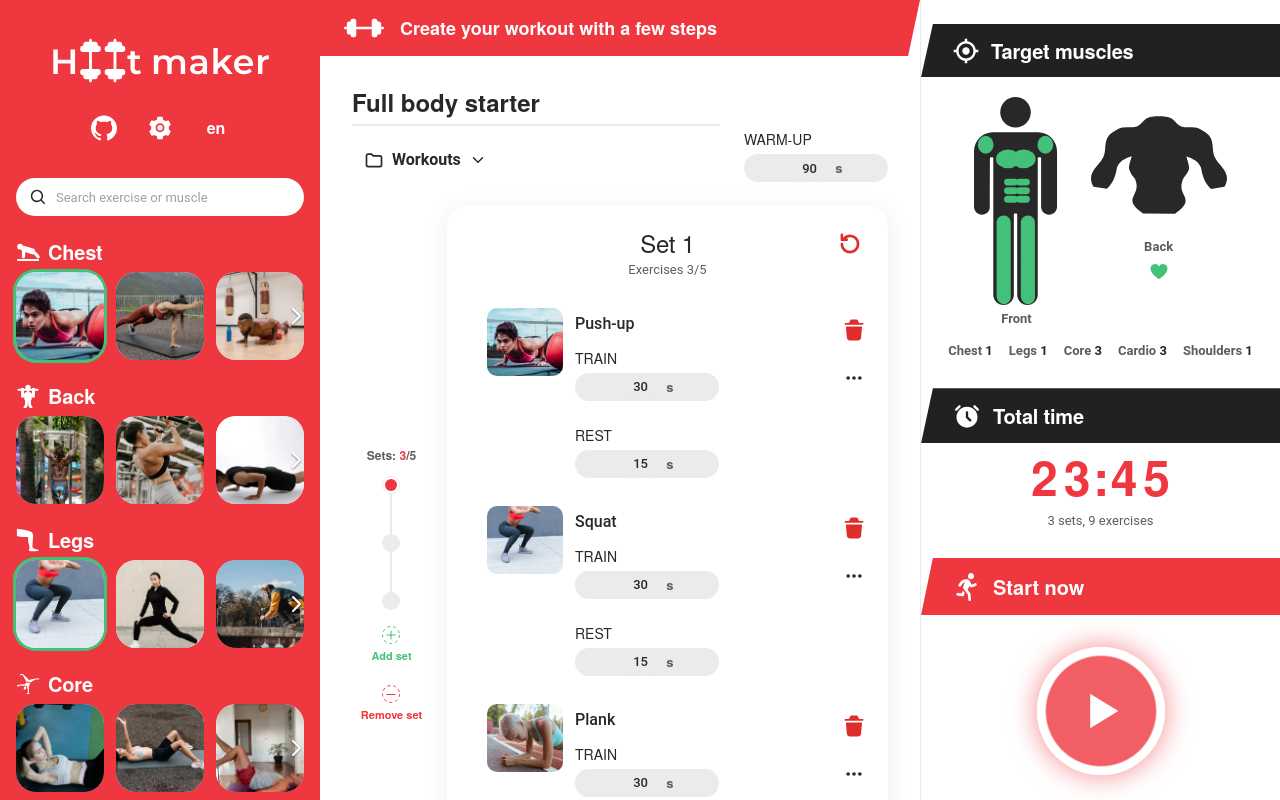
Test: HIIT builder › lets the name be cleared while typing and restores a name on blur
Step 1. Clear the field named "Workout name" → (536, 103), box [352,80,720,126]
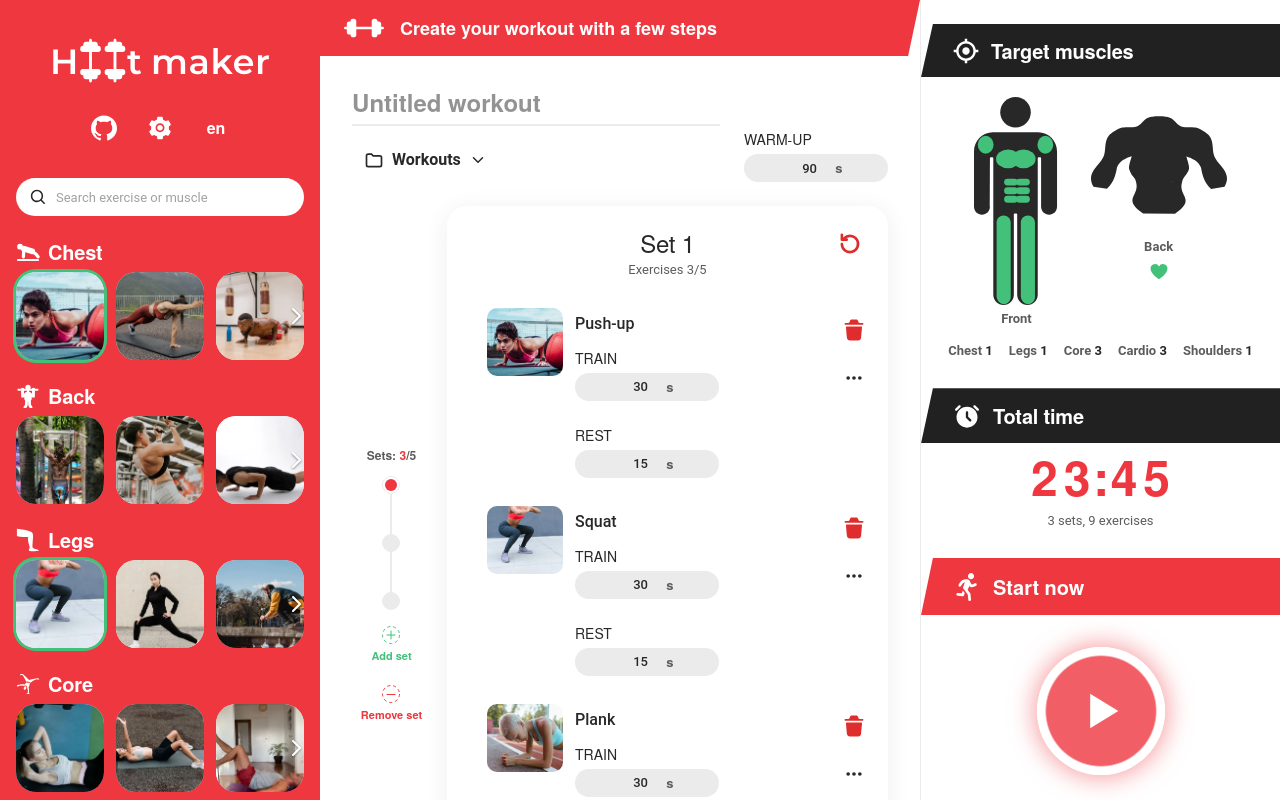
Step 2. Type "Tuesday" into the field named "Workout name" → (536, 103), box [352,80,720,126]
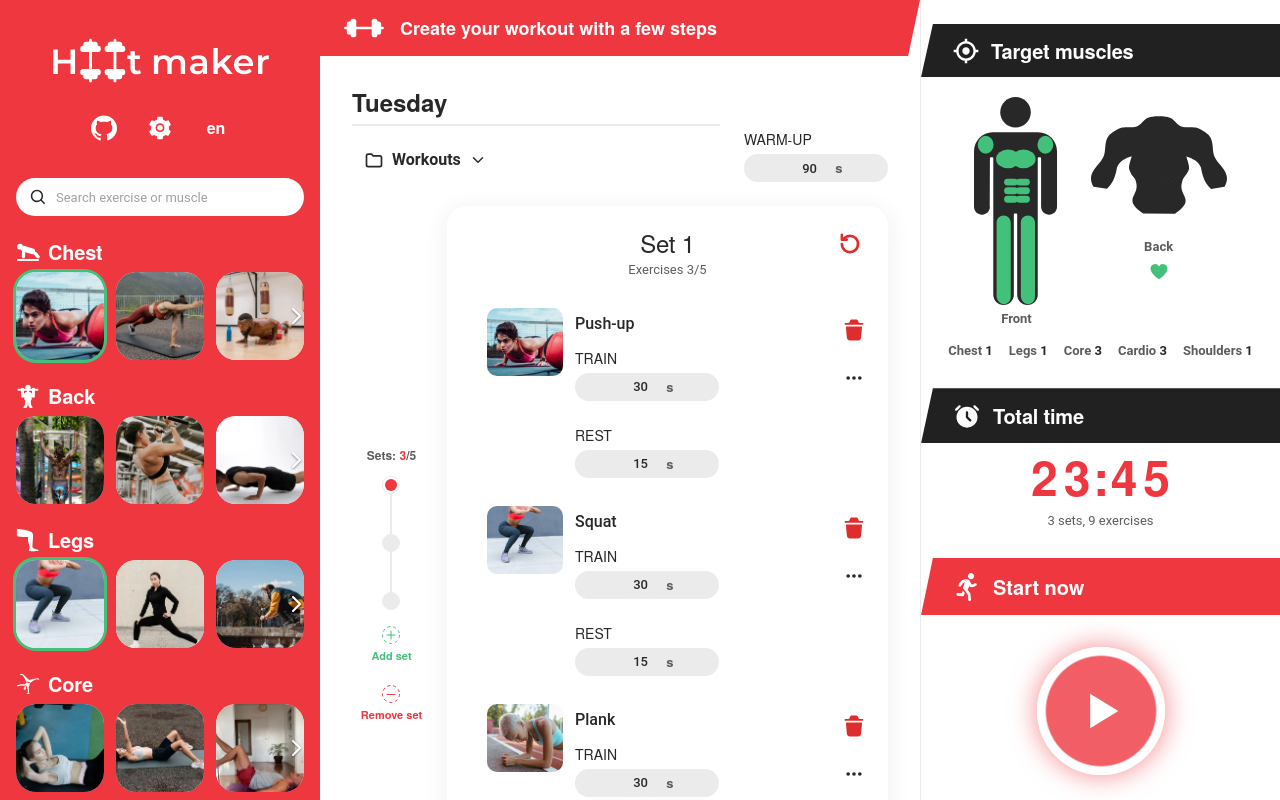
Step 3. Clear the field named "Workout name" → (536, 103), box [352,80,720,126]
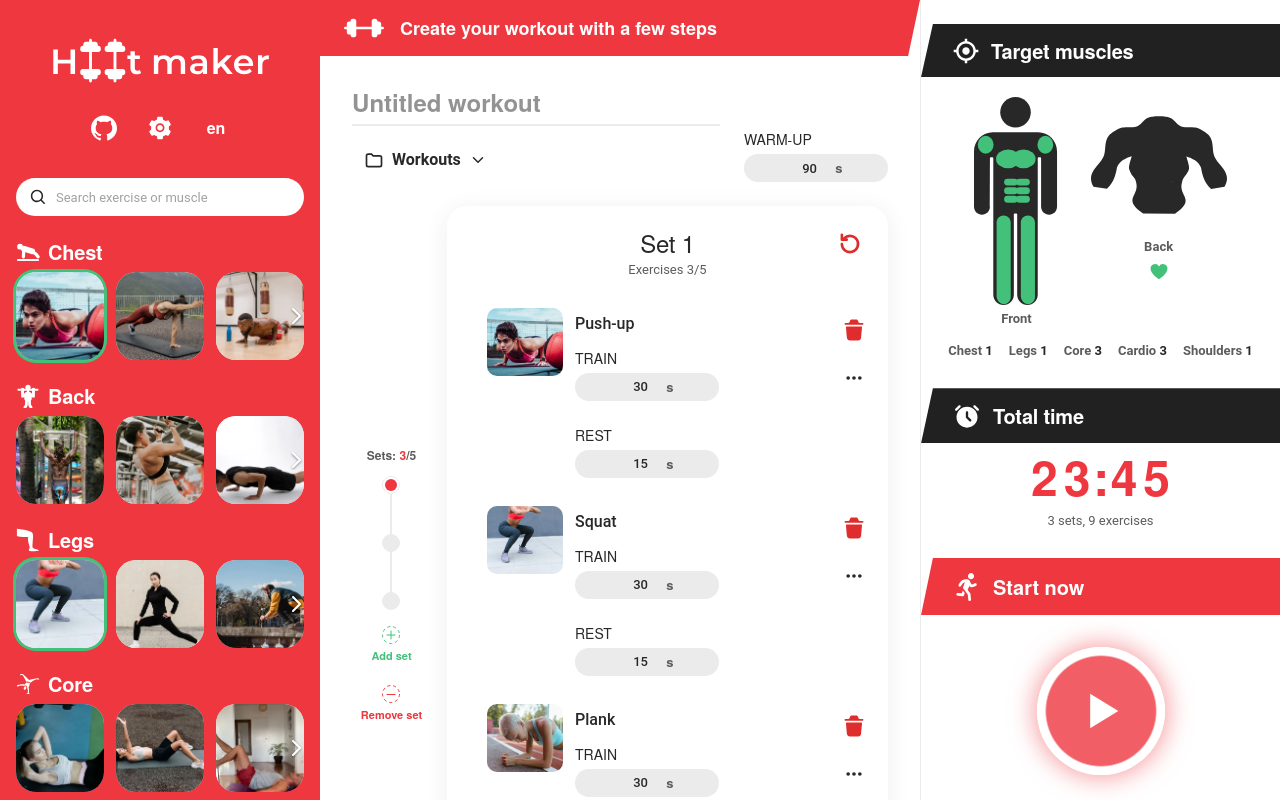
Step 4. Leave the field named "Workout name", box [352,80,720,126]
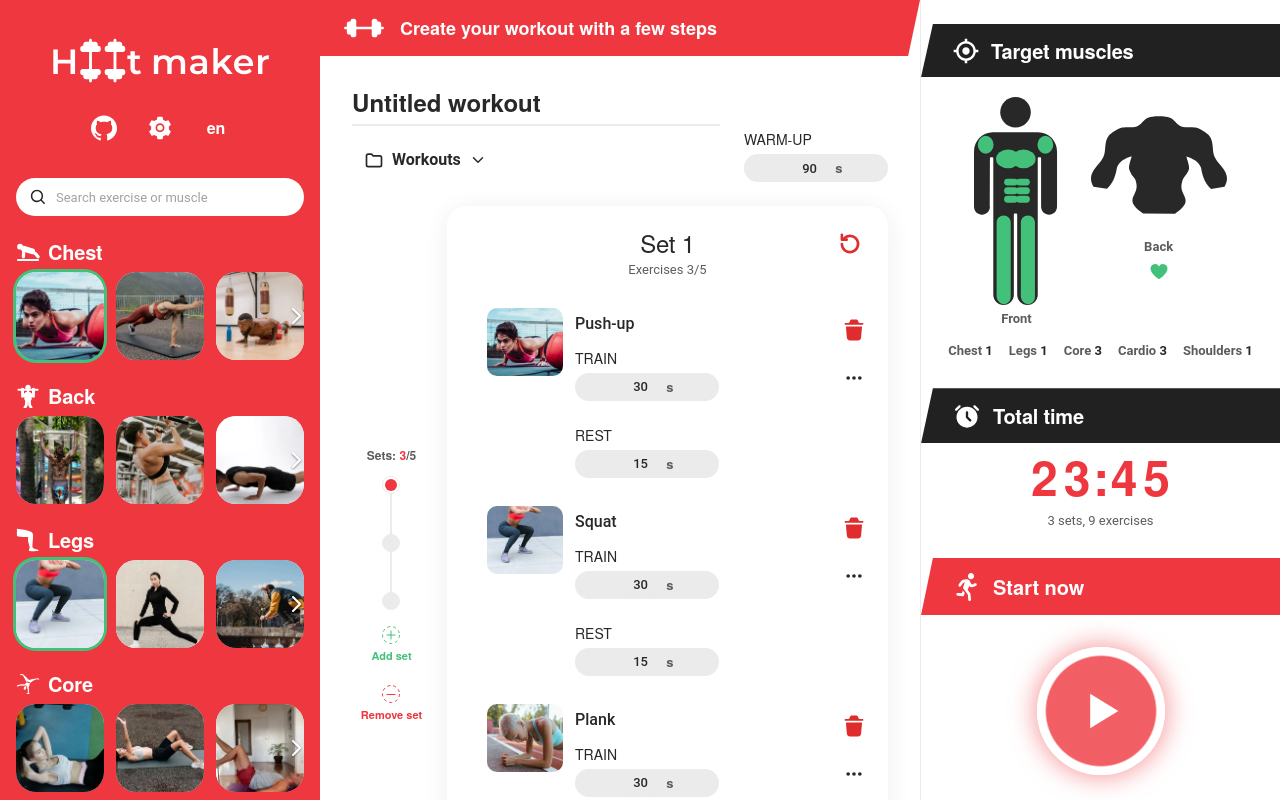
Result: the field named "Workout name" holds "Untitled workout" at [352,80,720,126]
